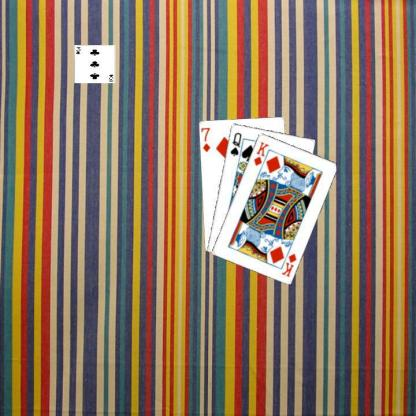7D: (199, 125, 211, 153)
KD: (251, 139, 270, 167), (279, 251, 298, 278)
QS: (228, 130, 242, 157)
